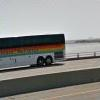Bus: (2, 31, 72, 74)
